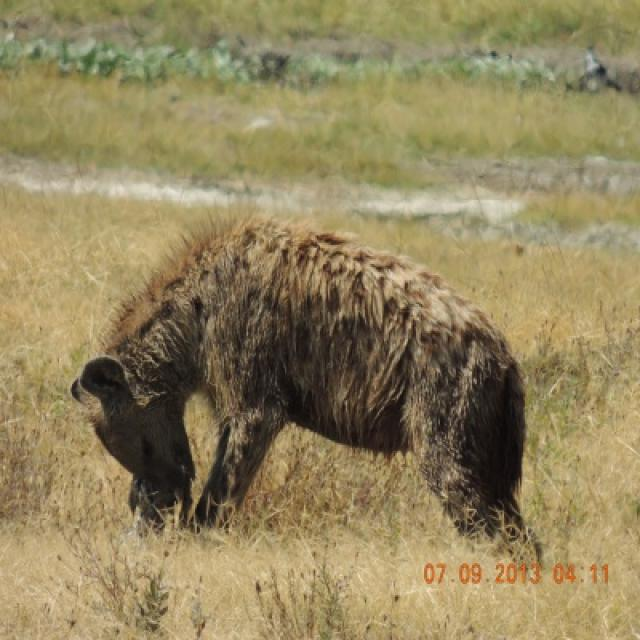hyena: (70, 218, 530, 544)
